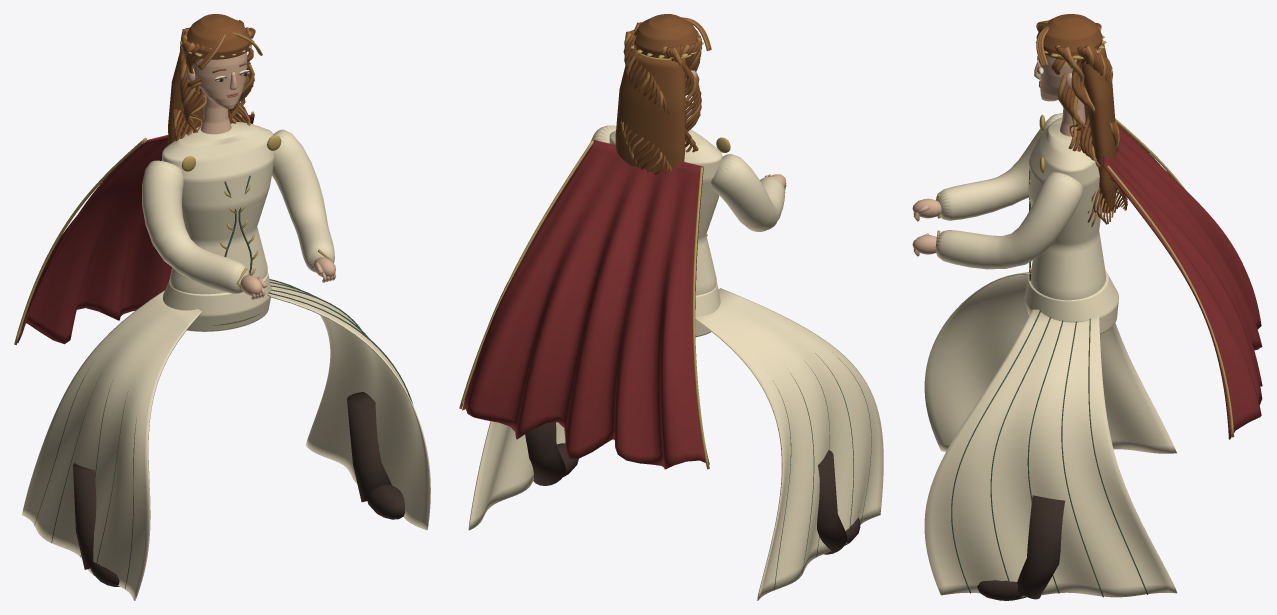
Rendered from princess-v3.glb.
3 renders of one model, left to right at view 1: azimuth 30°, elevation 25°; view 2: azimuth 150°, elevation 25°; view 3: azimuth 270°, elevation 25°, orthographic.
Parts seen in each view (by area): view 1: MorrisPrincess_surface, cape_surface, body_surface, head_surface, armL_surface, armR_surface; view 2: cape_surface, MorrisPrincess_surface, head_surface, armL_surface, body_surface; view 3: MorrisPrincess_surface, cape_surface, head_surface, body_surface, armR_surface, armL_surface.
Boxes of the visible parts, x1,y1,x2,y2 form: MorrisPrincess_surface: (22, 271, 430, 600); cape_surface: (14, 111, 254, 344); body_surface: (162, 94, 281, 325); head_surface: (167, 14, 262, 145); armL_surface: (142, 160, 266, 299); armR_surface: (272, 129, 336, 282); cape_surface: (459, 140, 709, 469); MorrisPrincess_surface: (468, 281, 883, 600); head_surface: (615, 14, 711, 174); armL_surface: (711, 154, 786, 231); body_surface: (609, 129, 730, 295); MorrisPrincess_surface: (924, 270, 1177, 600); cape_surface: (1103, 118, 1262, 439); head_surface: (1034, 14, 1127, 226); body_surface: (1027, 99, 1105, 315); armR_surface: (912, 172, 1083, 269); armL_surface: (912, 112, 1062, 221).
Bounding box in the file's own units: 0.99 × 1.56 × 0.964.
